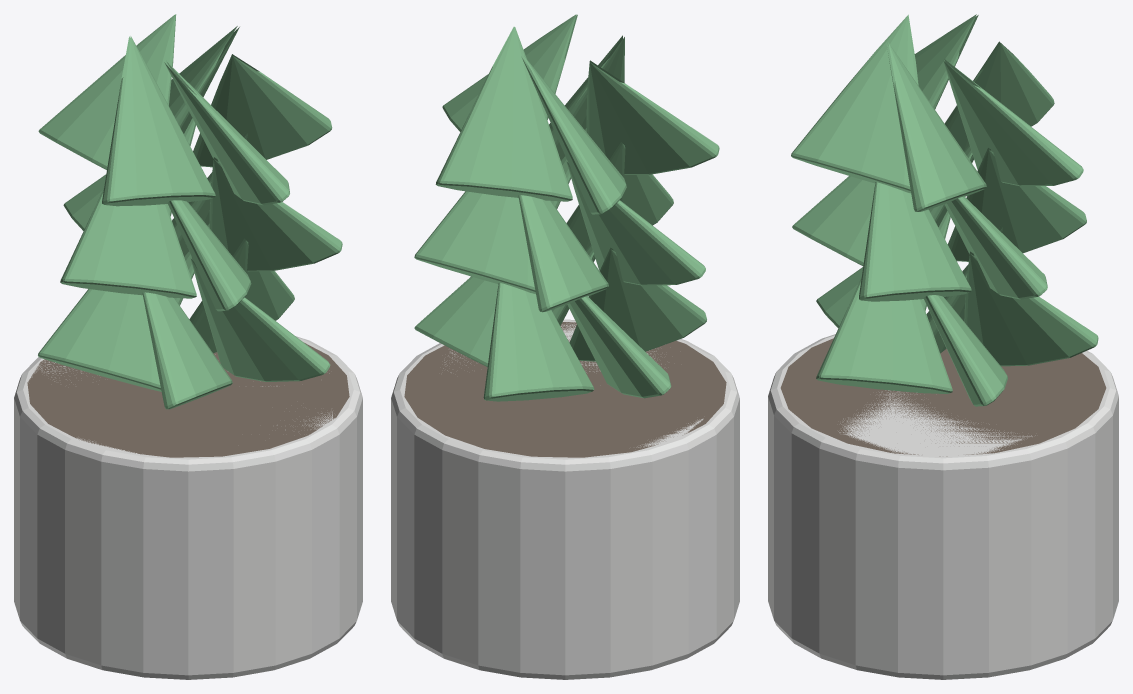
The model's file is isometric_modern_office_kit_13.glb.
3 renders of one model, left to right at view 1: azimuth 30°, elevation 25°; view 2: azimuth 150°, elevation 25°; view 3: azimuth 270°, elevation 25°, orthographic.
Visible parts, largest first — view 1: Cylinder; view 2: Cylinder; view 3: Cylinder.
Part boxes in pixels (box(x1,y1,x2,y2)): Cylinder: box(14, 14, 362, 679); Cylinder: box(391, 14, 739, 679); Cylinder: box(768, 14, 1118, 679).
Size of the model in its own units: 0.546 by 0.9875 by 0.546.
